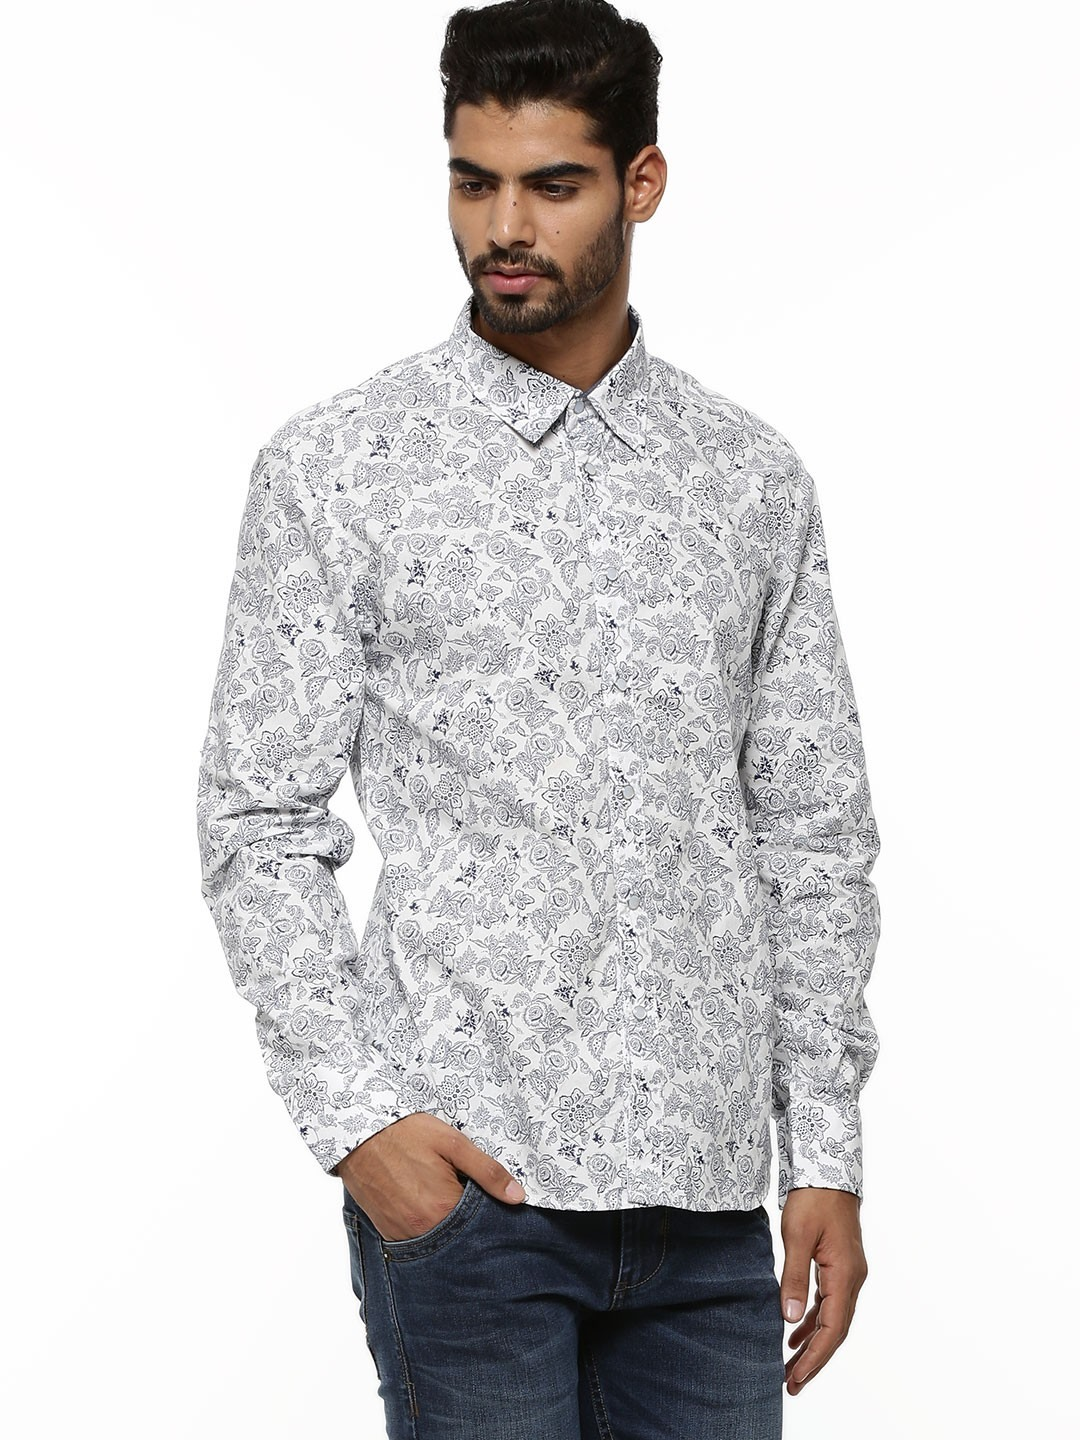Shirt: (182, 273, 995, 1240)
